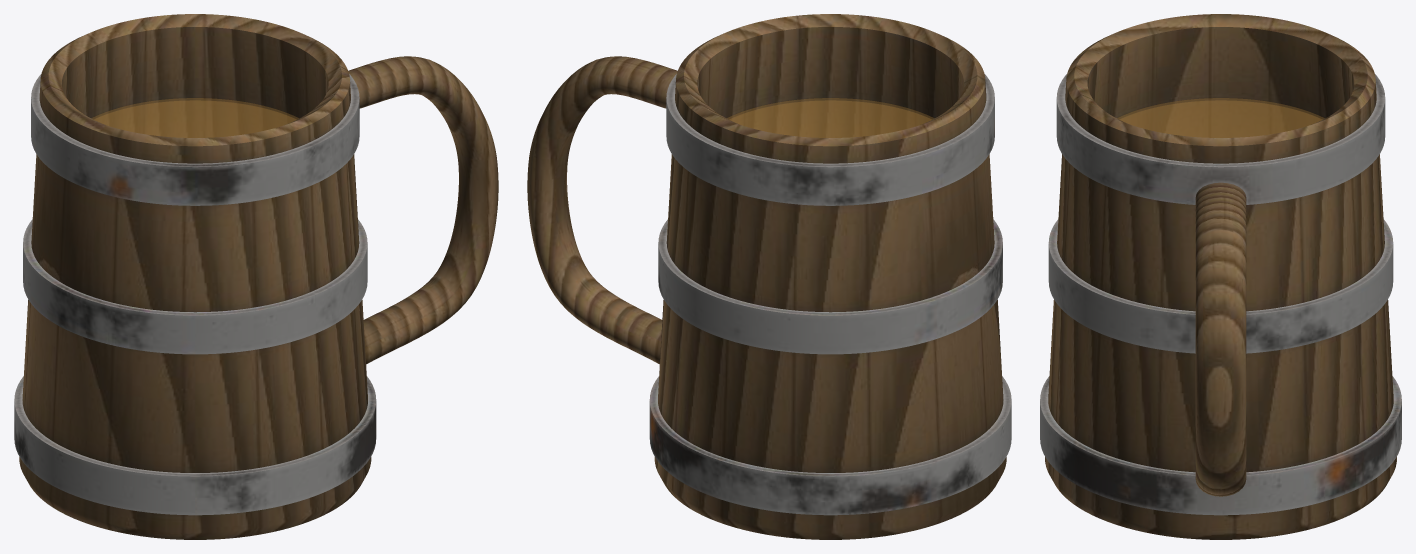
Rendered from stave_tankard.glb.
3 views of the same model, side by side, from view 1: azimuth 30°, elevation 25°; view 2: azimuth 150°, elevation 25°; view 3: azimuth 270°, elevation 25° (orthographic).
Visible parts, largest first — view 1: stave_tankard; view 2: stave_tankard; view 3: stave_tankard.
Boxes of the visible parts, x1,y1,x2,y2 form: stave_tankard: (14,14,498,539); stave_tankard: (527,14,1011,539); stave_tankard: (1040,14,1401,539).
Size of the model in its own units: 0.1971 by 0.162 by 0.1356.
Materials: 2 (1 with a texture image).
